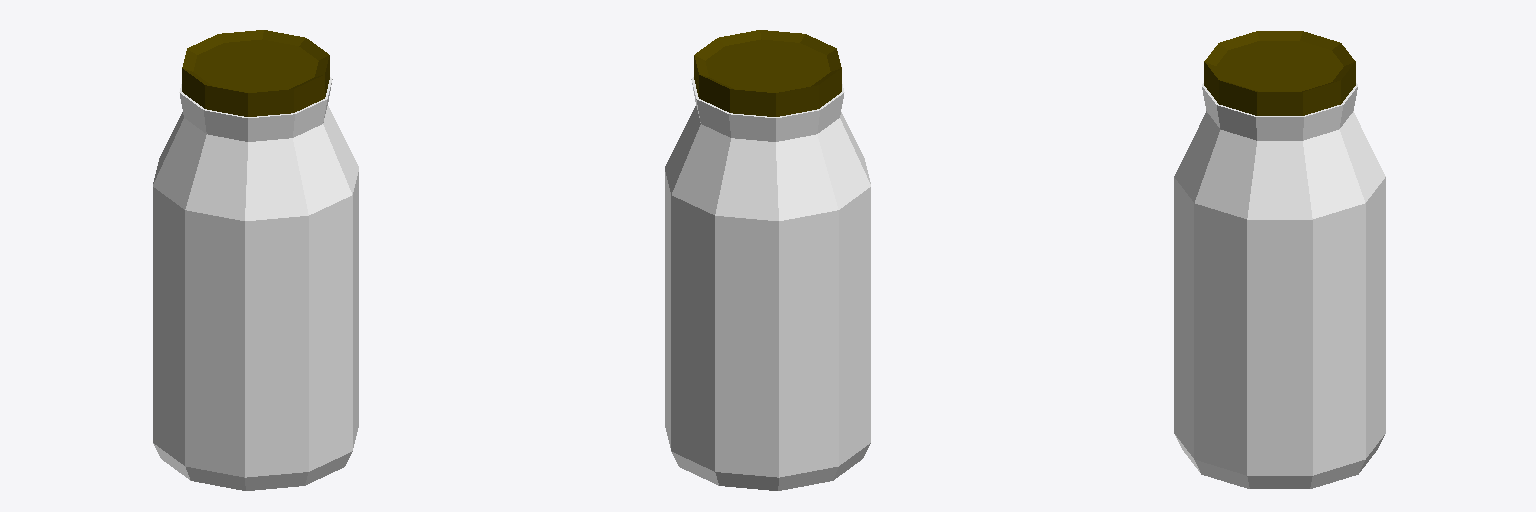
Rendered from Jar_01.obj.
3 views of the same model, side by side, from view 1: azimuth 30°, elevation 25°; view 2: azimuth 150°, elevation 25°; view 3: azimuth 270°, elevation 25° (orthographic).
Parts seen in each view (by area): view 1: Jar_01_Circle.001; view 2: Jar_01_Circle.001; view 3: Jar_01_Circle.001.
Part boxes in pixels (left/top/right/bottom): Jar_01_Circle.001: left=153, top=30, right=358, bottom=490; Jar_01_Circle.001: left=665, top=30, right=870, bottom=490; Jar_01_Circle.001: left=1174, top=31, right=1385, bottom=488.
Size of the model in its own units: 0.3417 by 0.7288 by 0.3593.